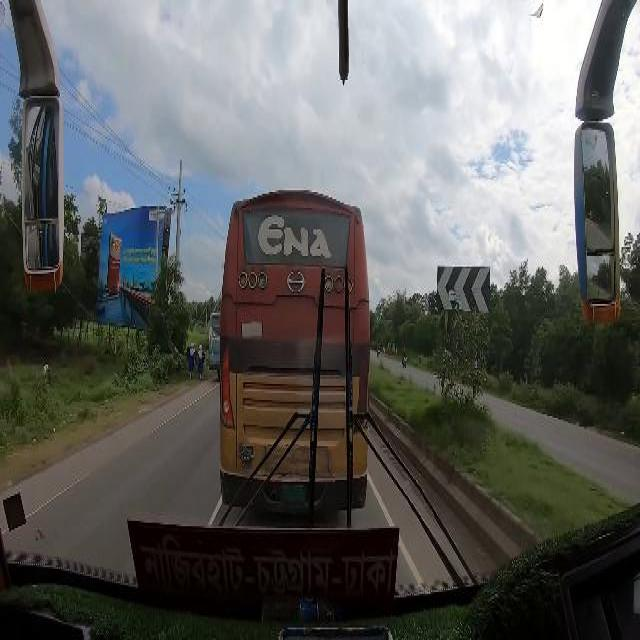bike: (403, 355, 408, 365), (376, 348, 380, 355)
vehicle: (223, 188, 369, 508), (209, 311, 224, 381)
